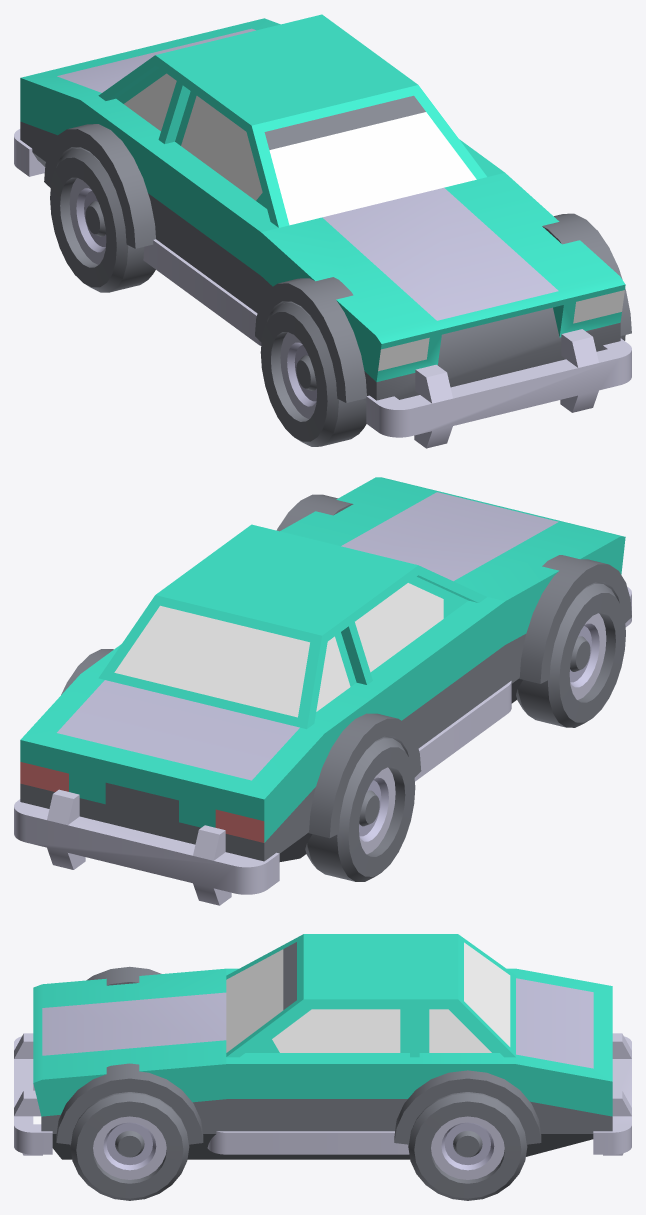
Rendered from Vehicle.fbx.
The picture shows the model from 3 angles, top to bottom: view 1: azimuth 30°, elevation 25°; view 2: azimuth 150°, elevation 25°; view 3: azimuth 270°, elevation 25°; orthographic projection. The views are drawn at different scales.
Parts seen in each view (by area): view 1: body_standard.001, wheel_standard.007, wheel_standard.006; view 2: body_standard.001, wheel_standard.007, wheel_standard.006; view 3: body_standard.001, wheel_standard.005, wheel_standard.004.
Part boxes in pixels (x1,y1,x2,y2): body_standard.001: (14, 14, 631, 448); wheel_standard.007: (260, 301, 366, 446); wheel_standard.006: (50, 147, 155, 292); body_standard.001: (14, 477, 631, 905); wheel_standard.007: (516, 582, 625, 727); wheel_standard.006: (305, 736, 415, 881); body_standard.001: (14, 934, 631, 1159); wheel_standard.005: (70, 1092, 189, 1200); wheel_standard.004: (408, 1092, 527, 1200).
Size of the model in its own units: 143 by 102 by 320.
